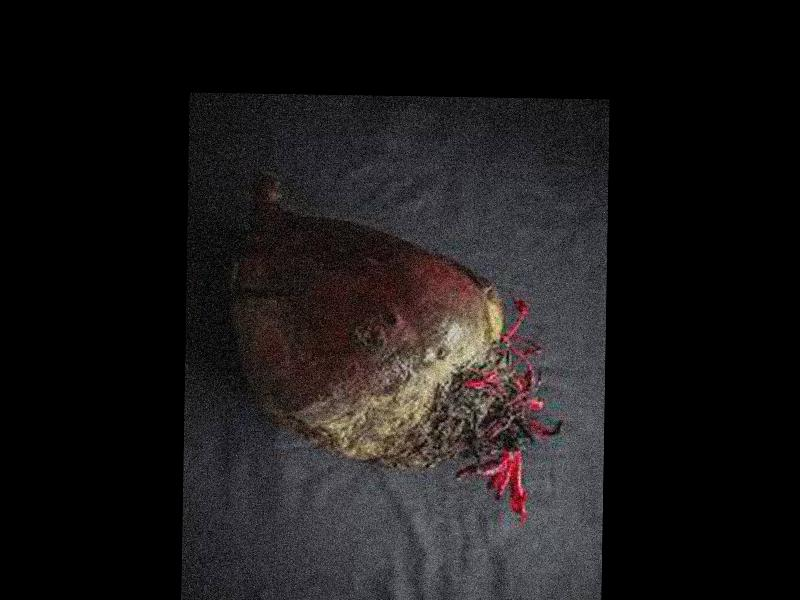Beet: (228, 168, 566, 521)
